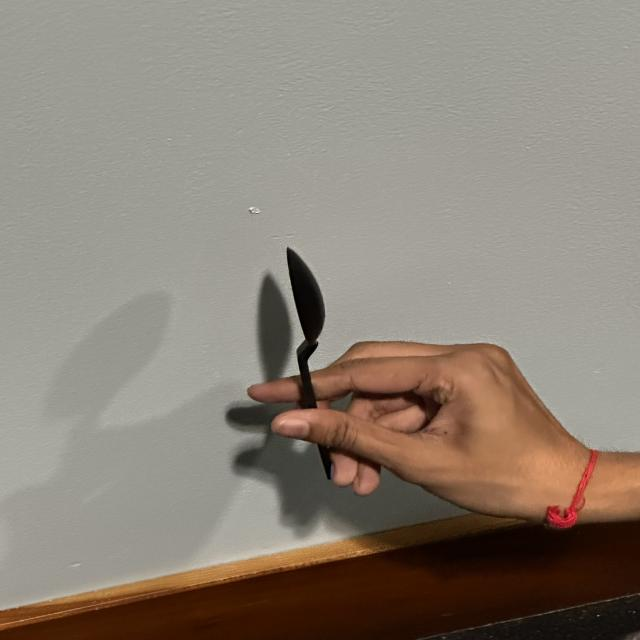spoon: (257, 245, 347, 482)
